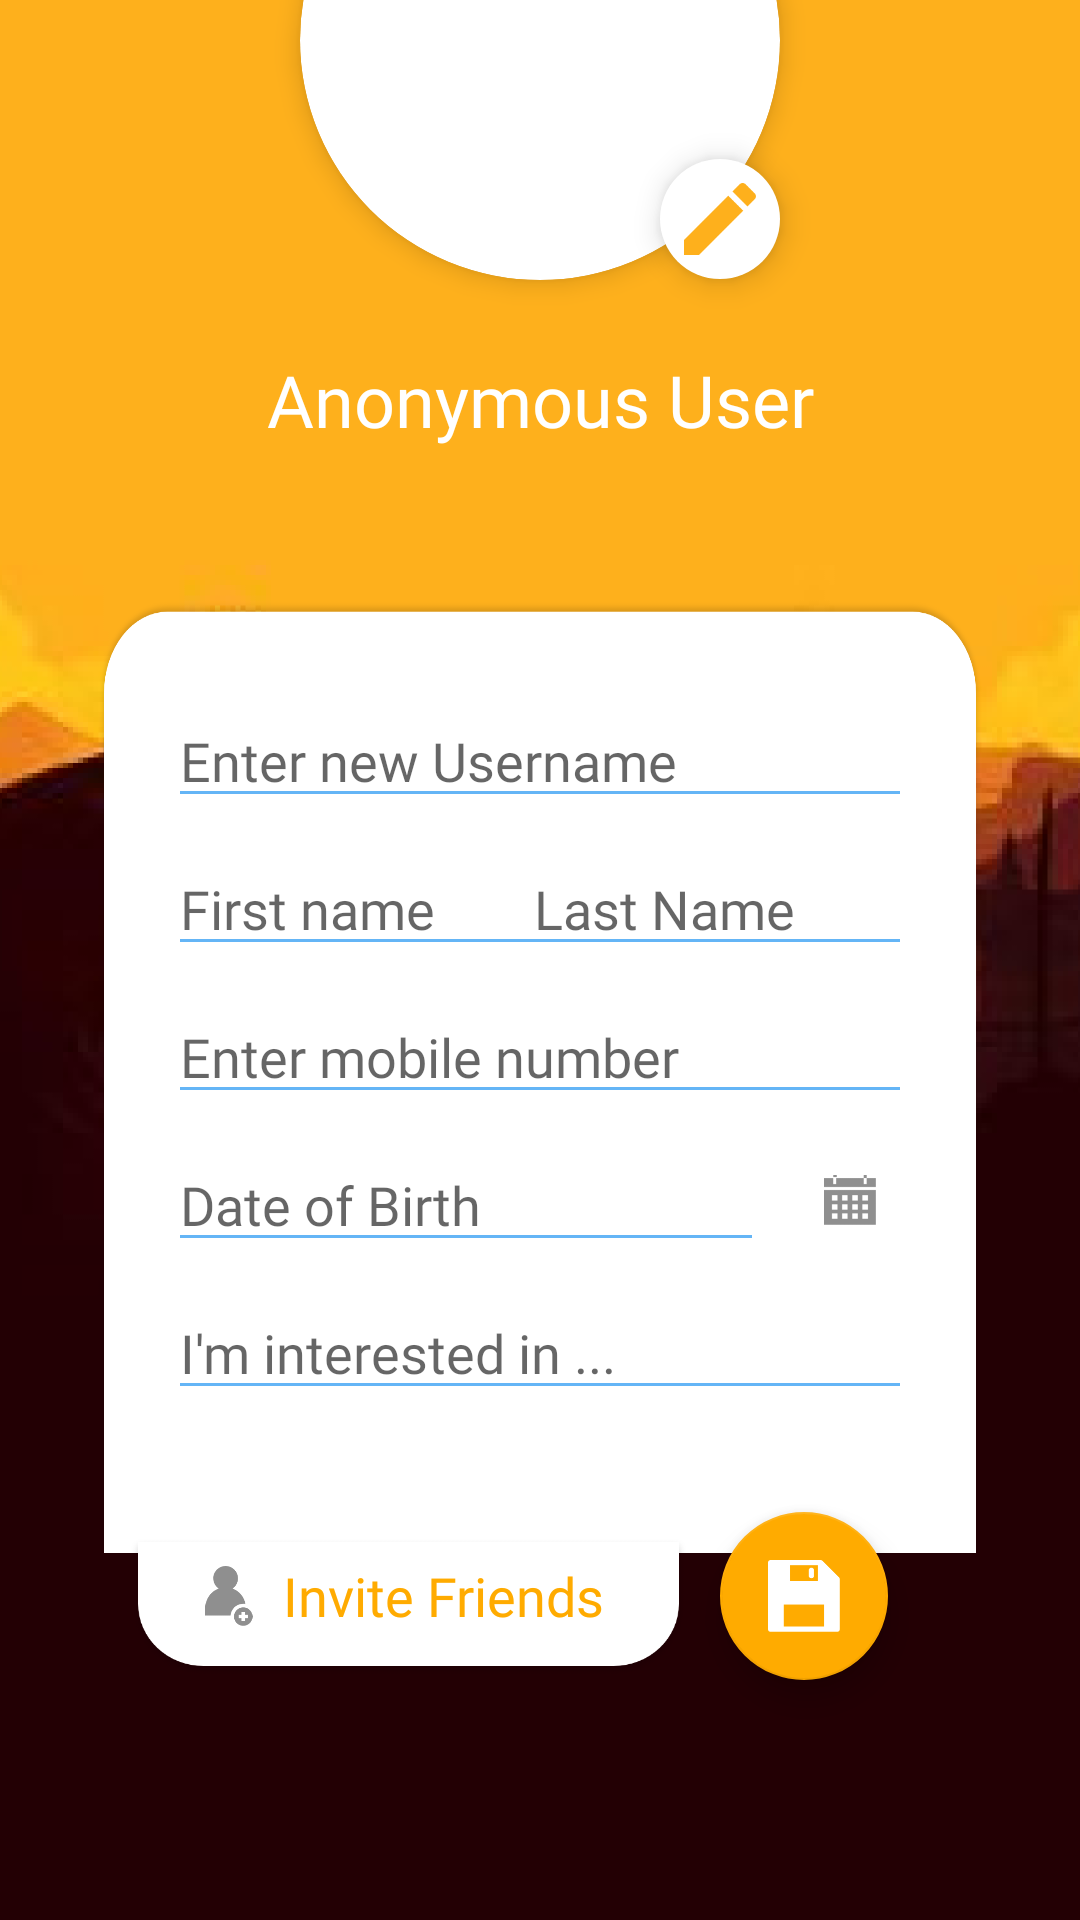

Icons on this 1080×1920 Android screen, each with the point to tap as point (x, y):
calendar: point (850, 1200)
edit: point (720, 219)
save profile: point (804, 1596)
